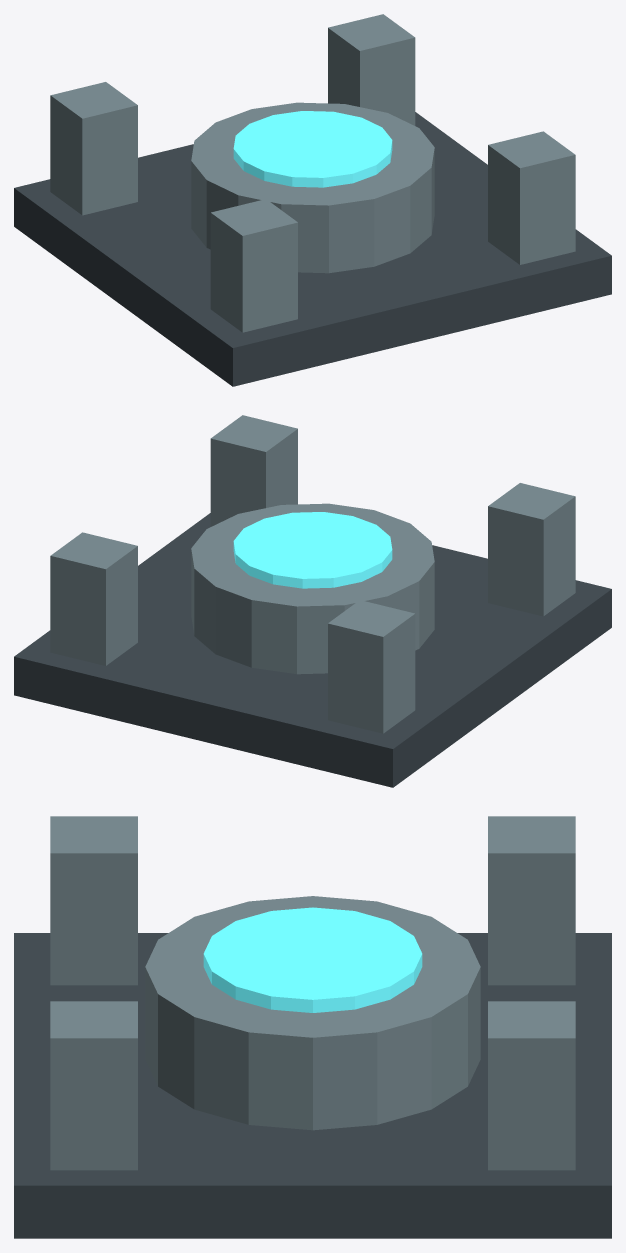
The model's file is Narrative-eva_conduit.glb.
The picture shows the model from 3 angles, top to bottom: view 1: azimuth 30°, elevation 25°; view 2: azimuth 150°, elevation 25°; view 3: azimuth 270°, elevation 25°; orthographic projection. The views are drawn at different scales.
Parts seen in each view (by area): view 1: Base, ProjectionWell, FeedTerminal.003, FeedTerminal.001, FeedTerminal, Lens, FeedTerminal.002; view 2: Base, ProjectionWell, FeedTerminal.002, FeedTerminal, FeedTerminal.001, Lens, FeedTerminal.003; view 3: Base, ProjectionWell, Lens, FeedTerminal, FeedTerminal.001, FeedTerminal.002, FeedTerminal.003.
Boxes of the visible parts, x1,y1,x2,y2 form: Base: (14,112,611,386); ProjectionWell: (191,102,434,273); FeedTerminal.003: (488,131,575,264); FeedTerminal.001: (210,199,297,332); FeedTerminal: (50,82,137,215); Lens: (233,111,392,187); FeedTerminal.002: (328,14,415,125); Base: (14,513,611,787); ProjectionWell: (191,503,434,674); FeedTerminal.002: (50,532,137,665); FeedTerminal: (328,600,415,733); FeedTerminal.001: (488,483,575,616); Lens: (233,512,392,588); FeedTerminal.003: (210,415,297,526); Base: (14,933,611,1238); ProjectionWell: (145,896,480,1130); Lens: (203,907,422,1012); FeedTerminal: (488,816,575,985); FeedTerminal.001: (50,816,137,985); FeedTerminal.002: (488,1001,575,1170); FeedTerminal.003: (50,1001,137,1170).
Size of the model in its own units: 1.64 by 0.56 by 1.64.
